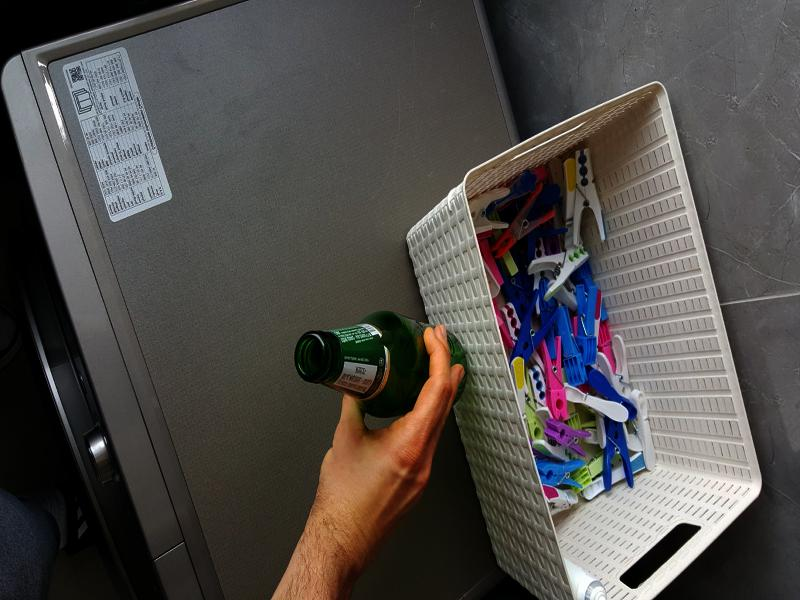Beer: (294, 311, 466, 416)
